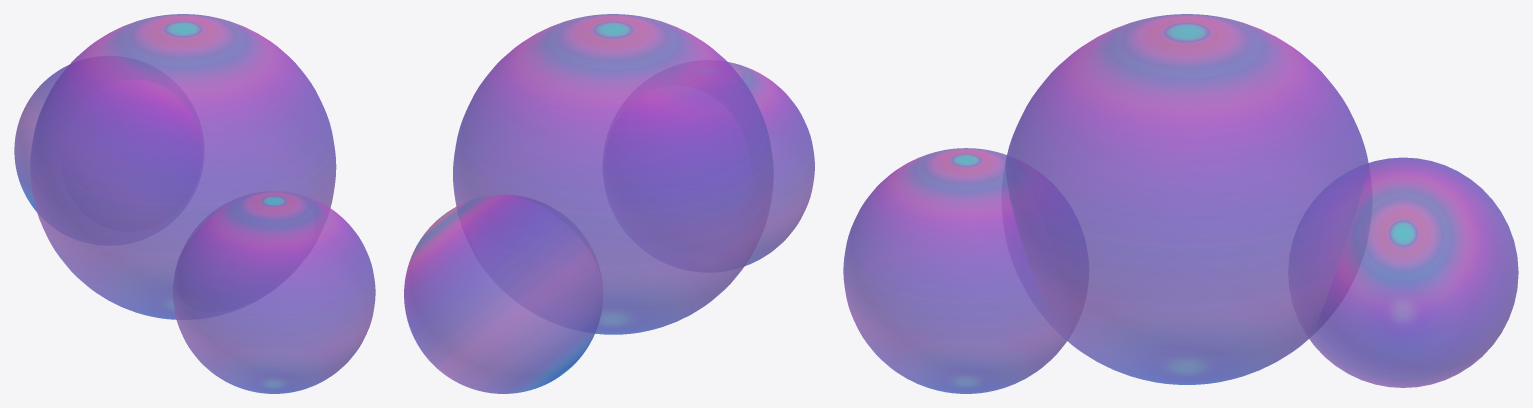
The model's file is purpleglow.gltf.
The picture shows the model from 3 angles, left to right: view 1: azimuth 30°, elevation 25°; view 2: azimuth 150°, elevation 25°; view 3: azimuth 270°, elevation 25°; orthographic projection. The views are drawn at different scales.
Visible parts, largest first — view 1: Sphere, Sphere 3, Sphere 2; view 2: Sphere, Sphere 2, Sphere 3; view 3: Sphere, Sphere 3, Sphere 2.
Part boxes in pixels (x1,y1,x2,y2): Sphere: (30,14,336,319); Sphere 3: (172,191,375,393); Sphere 2: (14,65,201,231); Sphere: (453,14,773,334); Sphere 2: (404,194,603,393); Sphere 3: (604,62,814,265); Sphere: (1001,14,1372,384); Sphere 3: (843,148,1088,393); Sphere 2: (1288,157,1518,387).
Bounding box in the file's own units: 0.2505 × 0.2615 × 0.4558.
1 material, 1 textured.
